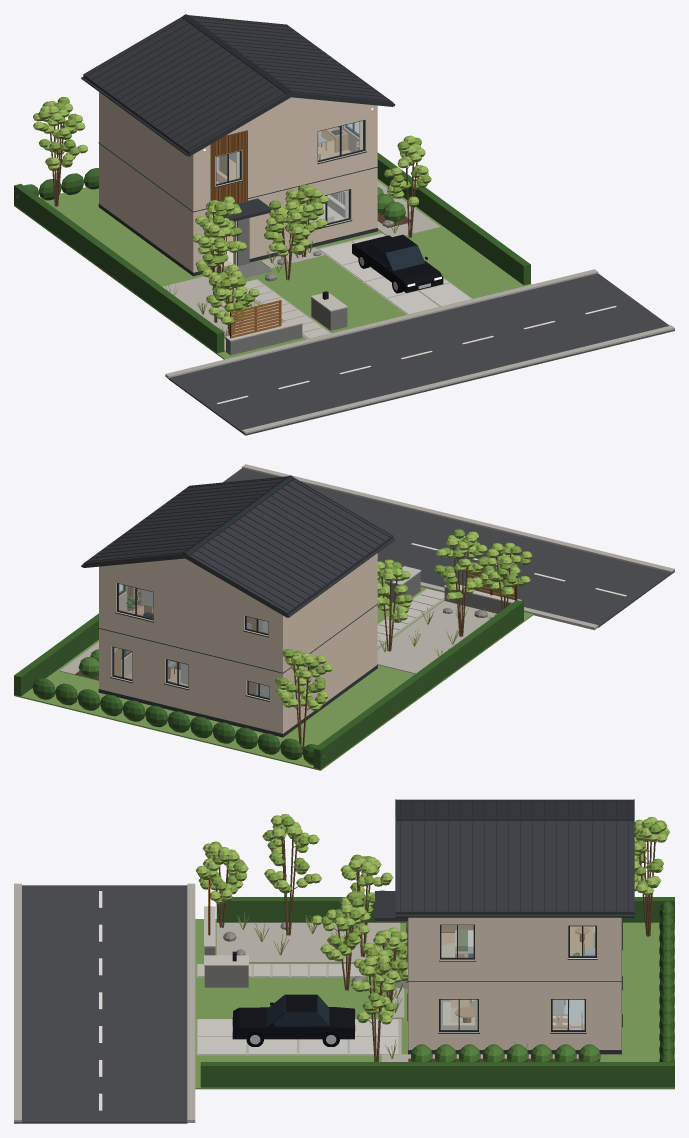
File: hades-house_v3_3.glb
3 renders of one model, top to bottom at view 1: azimuth 30°, elevation 25°; view 2: azimuth 150°, elevation 25°; view 3: azimuth 270°, elevation 25°, orthographic. The views are drawn at different scales.
Visible parts, largest first — view 1: road, ground, roof_W, outer_wall_S, outer_wall_W, boundary_hedge, roof_standing_seams, roof_E, black_car_01, driveway, tree_back_yard, eaves (+20 smaller); view 2: outer_wall_N, road, roof_W, outer_wall_W, boundary_hedge, ground, roof_standing_seams, roof_E, back_yard, planting_front_left, tree_front_left, tree_back_yard (+11 smaller); view 3: road, outer_wall_E, roof_E, boundary_hedge, ground, planting_front_left, black_car_01, driveway, roof_W, roof_standing_seams, tree_front_left, east_side_yard (+20 smaller).
Part boxes in pixels (x1=…): road: x1=165, y1=269, x2=674, y2=435; ground: x1=14, y1=179, x2=531, y2=359; roof_W: x1=85, y1=18, x2=286, y2=150; outer_wall_S: x1=191, y1=104, x2=377, y2=272; outer_wall_W: x1=101, y1=94, x2=190, y2=270; boundary_hedge: x1=14, y1=152, x2=530, y2=353; roof_standing_seams: x1=87, y1=14, x2=390, y2=149; roof_E: x1=191, y1=16, x2=390, y2=101; black_car_01: x1=352, y1=234, x2=443, y2=293; driveway: x1=317, y1=233, x2=471, y2=314; tree_back_yard: x1=33, y1=97, x2=88, y2=206; eaves: x1=81, y1=15, x2=395, y2=156; outer_wall_N: x1=99, y1=565, x2=285, y2=733; road: x1=222, y1=464, x2=674, y2=630; roof_W: x1=190, y1=479, x2=391, y2=612; outer_wall_W: x1=285, y1=555, x2=374, y2=731; boundary_hedge: x1=14, y1=600, x2=523, y2=769; ground: x1=14, y1=578, x2=533, y2=770; roof_standing_seams: x1=86, y1=475, x2=389, y2=610; roof_E: x1=86, y1=477, x2=285, y2=562; back_yard: x1=32, y1=678, x2=325, y2=765; planting_front_left: x1=377, y1=601, x2=496, y2=673; tree_front_left: x1=433, y1=529, x2=487, y2=636; tree_back_yard: x1=275, y1=649, x2=332, y2=749; road: x1=14, y1=883, x2=195, y2=1123; outer_wall_E: x1=413, y1=917, x2=616, y2=1049; roof_E: x1=396, y1=820, x2=633, y2=911; boundary_hedge: x1=200, y1=897, x2=674, y2=1087; ground: x1=195, y1=919, x2=674, y2=1089; planting_front_left: x1=216, y1=911, x2=400, y2=962; black_car_01: x1=232, y1=994, x2=355, y2=1046; driveway: x1=196, y1=1019, x2=401, y2=1055; roof_W: x1=396, y1=800, x2=633, y2=815; roof_standing_seams: x1=395, y1=799, x2=634, y2=911; tree_front_left: x1=262, y1=814, x2=321, y2=935; east_side_yard: x1=408, y1=1044, x2=600, y2=1061.
Bounding box in the file's own units: 21 × 8.06 × 24.8.
